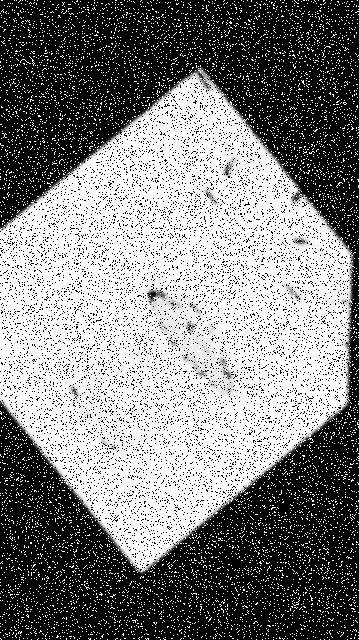pot: (68, 272, 253, 459)
